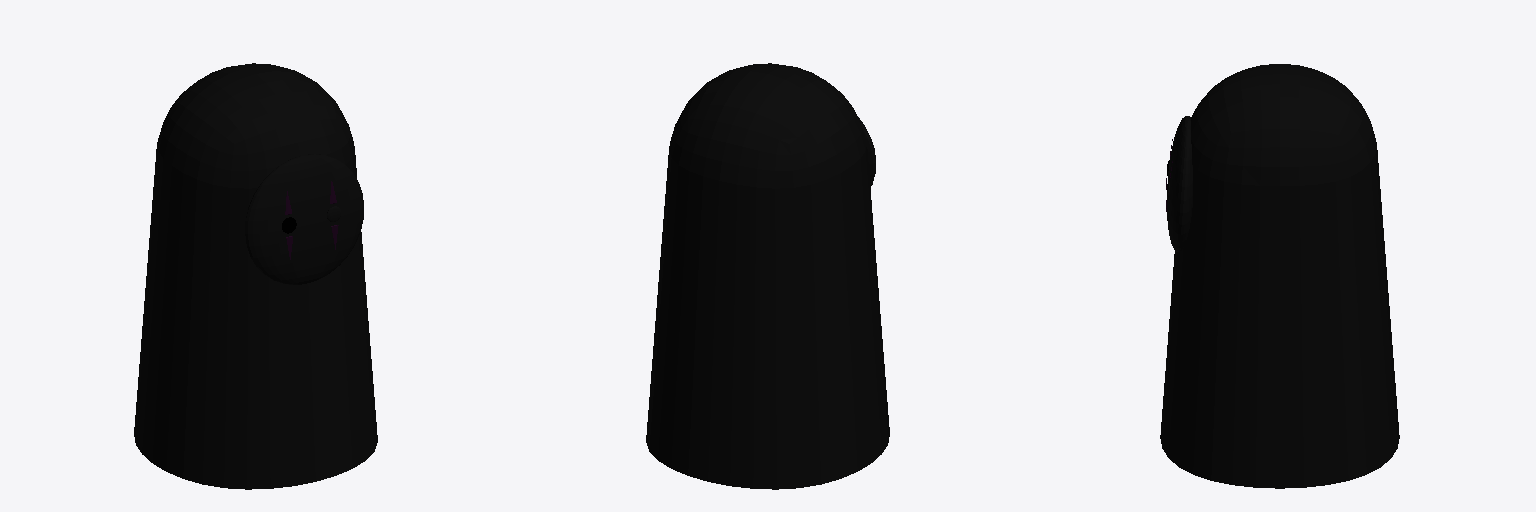
File: kaonashi.obj
The picture shows the model from 3 angles: view 1: azimuth 30°, elevation 25°; view 2: azimuth 150°, elevation 25°; view 3: azimuth 270°, elevation 25°; orthographic projection.
Visible parts, largest first — view 1: Cube, Sphere; view 2: Cube; view 3: Cube, Sphere.
Part boxes in pixels (x1,y1,x2,y2): Cube: (134,63,377,489); Sphere: (245,154,363,284); Cube: (646,63,889,489); Cube: (1160,64,1399,488); Sphere: (1167,116,1192,251).
Size of the model in its own units: 2.03 by 3.41 by 2.03.